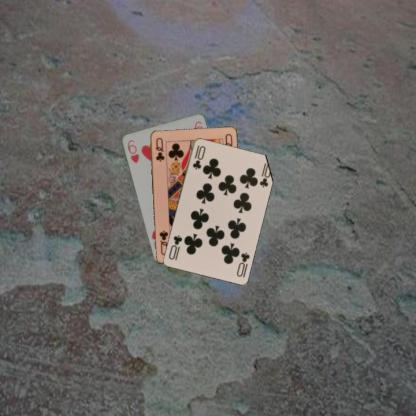10c: (189, 142, 207, 171), (234, 249, 251, 278)
6h: (124, 137, 140, 165)
Qc: (152, 134, 166, 164)
